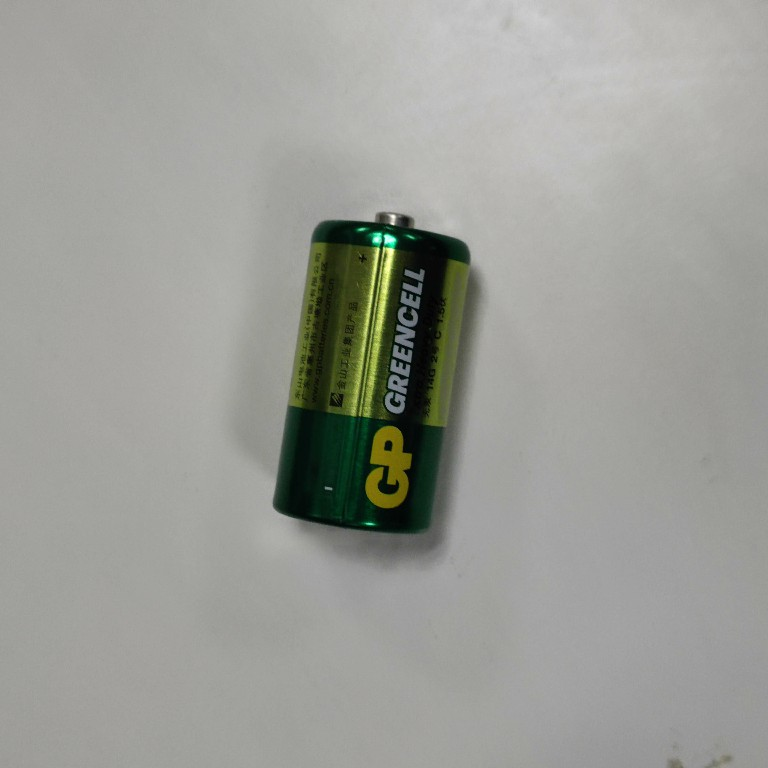charge: (268, 209, 475, 539)
